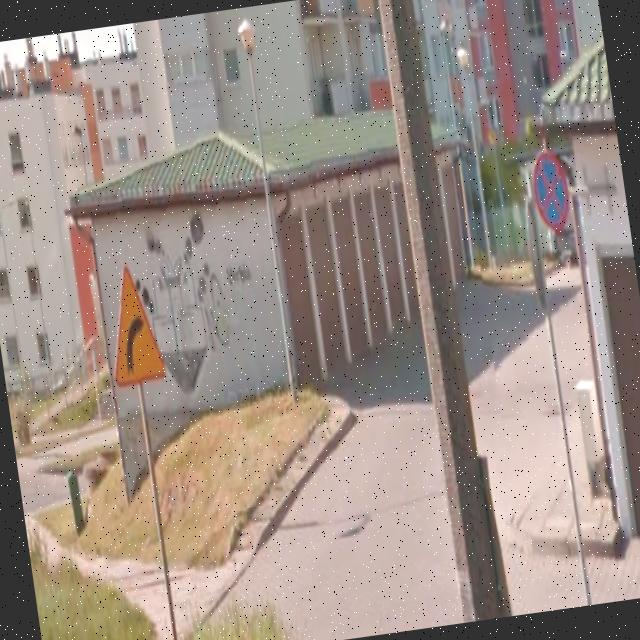Zakaz zatrzymywania sie: (528, 147, 574, 233)
